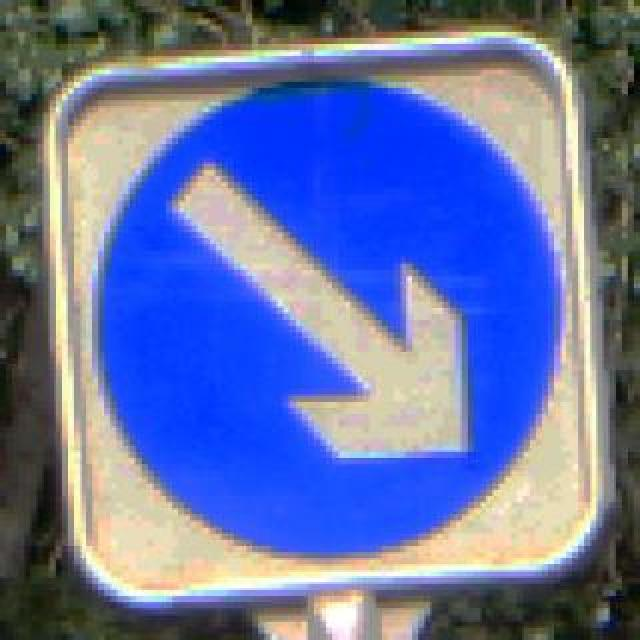keep right: (80, 70, 566, 566)
